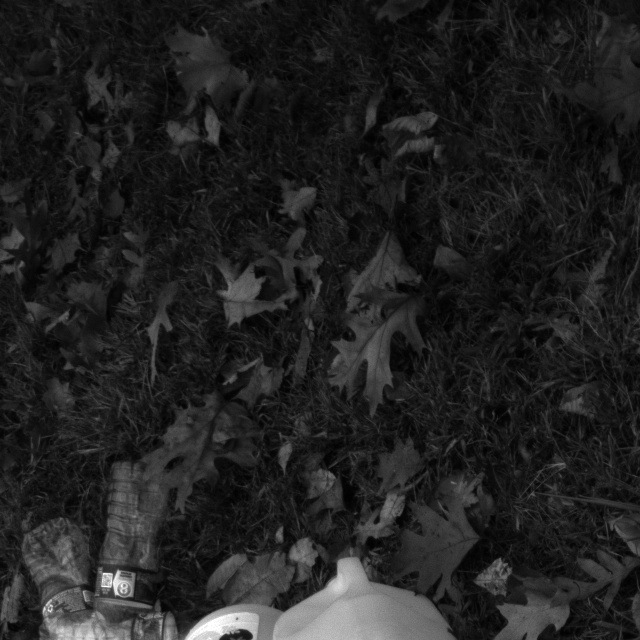bottle: (83, 462, 176, 640)
can: (268, 563, 476, 640)
